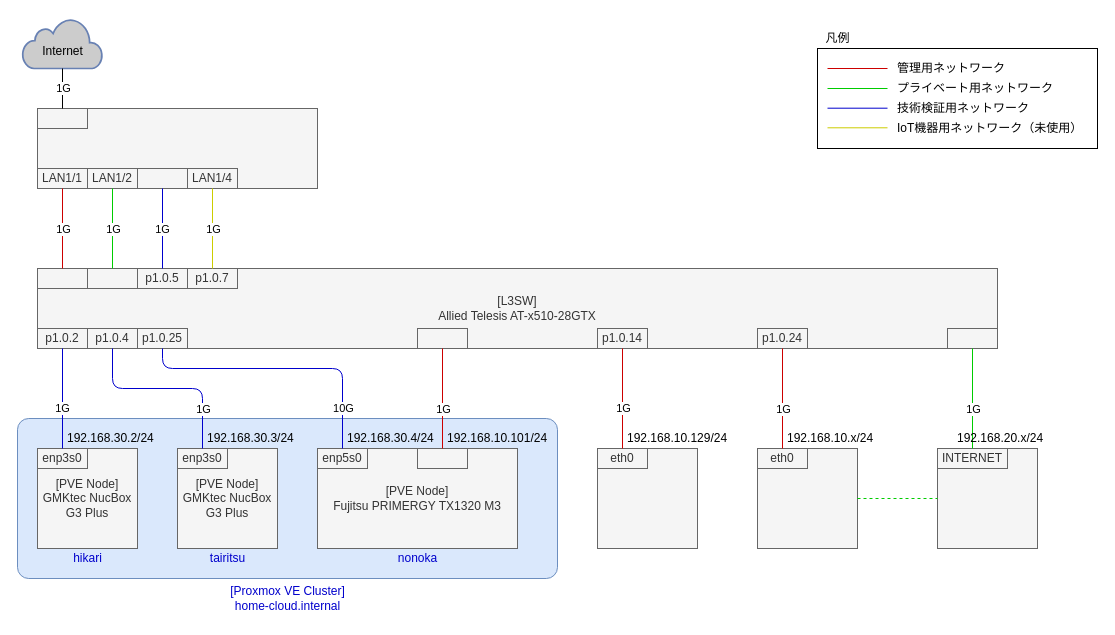
The diagram is 1115 pixels wide and 635 high, and some of its shapes have lost their labels. The shapes that lost their labels are listed below. From the top down, each one's box as (x1, y1, x2, y2) in pixels, then its label:
(36, 108, 88, 128): LAN3
(36, 108, 318, 188): [Router] YAMAHA RTX1200
(136, 168, 188, 188): LAN1/3
(36, 268, 88, 288): p1.0.1
(86, 268, 138, 288): p1.0.3
(416, 328, 468, 348): p1.0.16
(946, 328, 998, 348): p1.0.13
(416, 448, 468, 468): eno1
(596, 448, 698, 548): [Tailscale] Raspberry Pi 4B
(756, 448, 858, 548): PC
(936, 448, 1038, 548): [AP] WSR-1800AX4
